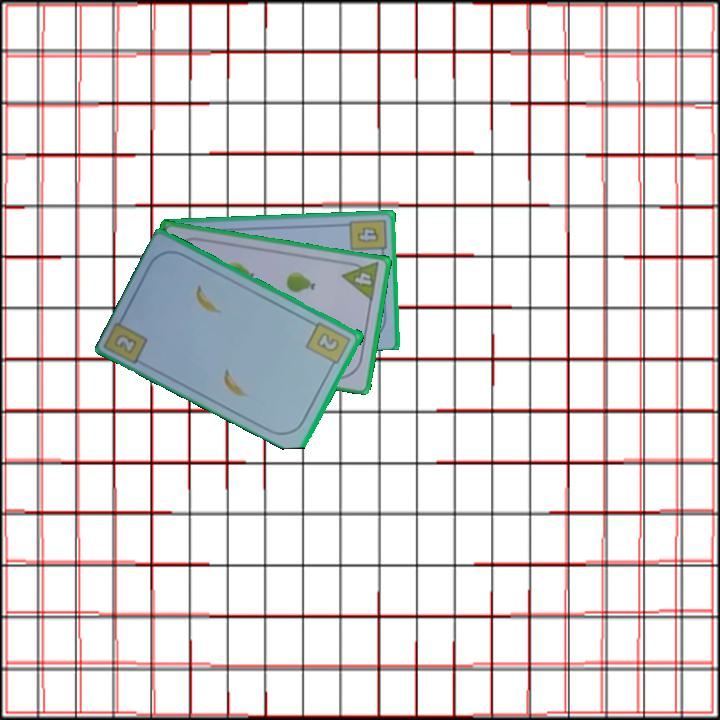2b: (303, 318, 354, 371), (111, 330, 140, 357)
4b: (346, 215, 389, 259)
4p: (339, 257, 382, 303)
